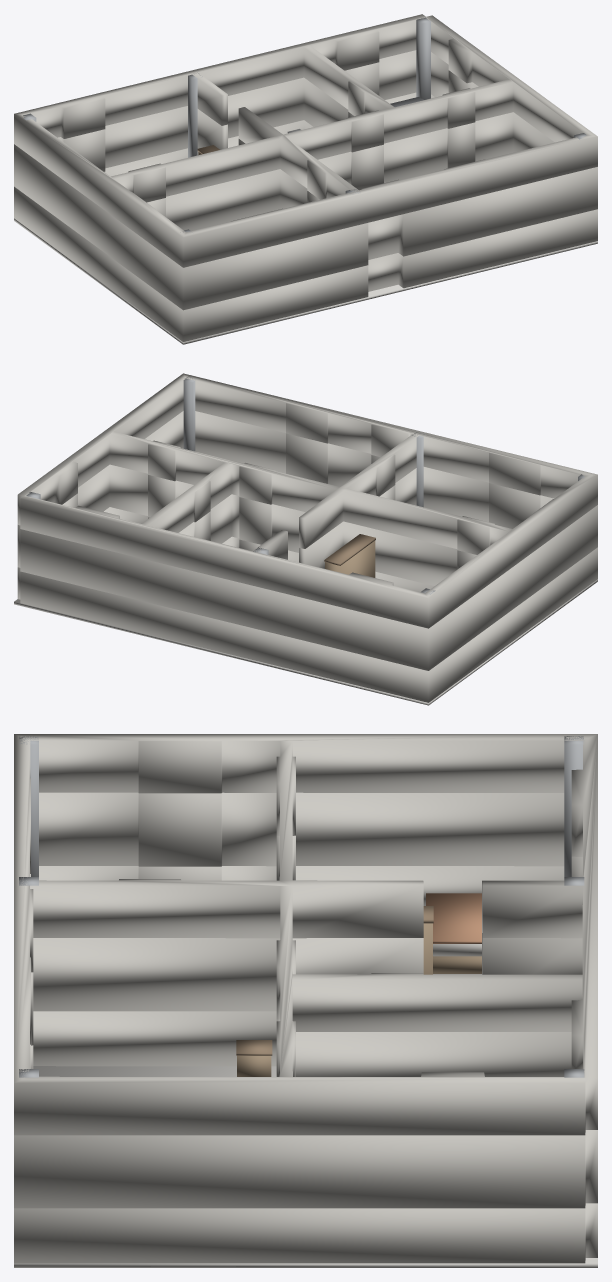
File: sample.glb
3 renders of one model, top to bottom at view 1: azimuth 30°, elevation 25°; view 2: azimuth 150°, elevation 25°; view 3: azimuth 270°, elevation 25°, orthographic. The views are drawn at different scales.
Visible parts, largest first — view 1: wall_p0_2_0, wall_p0_1_0, wall_p0_0_0, floor, column_3, column_5; view 2: wall_p0_2_0, wall_p0_1_0, wall_p0_0_0, floor, column_1, furn_cupboard_5_body, furn_cupboard_5_top, column_4; view 3: wall_p0_2_0, wall_p0_1_0, wall_p0_0_0, floor, furn_bed_1_blanket, column_2, column_0, furn_bed_1_frame, furn_sidetable_13_body.
Part boxes in pixels (left/top/right/bottom): wall_p0_2_0: left=14, top=14, right=597, bottom=267; wall_p0_1_0: left=14, top=50, right=597, bottom=310; wall_p0_0_0: left=14, top=92, right=597, bottom=341; floor: left=14, top=218, right=597, bottom=344; column_3: left=416, top=17, right=431, bottom=99; column_5: left=188, top=73, right=202, bottom=157; wall_p0_2_0: left=17, top=373, right=597, bottom=628; wall_p0_1_0: left=17, top=411, right=597, bottom=670; wall_p0_0_0: left=17, top=507, right=597, bottom=702; floor: left=14, top=579, right=597, bottom=705; column_1: left=183, top=376, right=197, bottom=451; furn_cupboard_5_body: left=325, top=541, right=375, bottom=577; furn_cupboard_5_top: left=324, top=534, right=375, bottom=565; column_4: left=412, top=432, right=425, bottom=507; wall_p0_2_0: left=14, top=734, right=597, bottom=1135; wall_p0_1_0: left=14, top=792, right=597, bottom=1208; wall_p0_0_0: left=14, top=866, right=597, bottom=1263; floor: left=14, top=974, right=597, bottom=1267; furn_bed_1_blanket: left=426, top=893, right=481, bottom=943; column_2: left=564, top=736, right=583, bottom=876; column_0: left=19, top=736, right=38, bottom=876; furn_bed_1_frame: left=433, top=956, right=481, bottom=973; furn_sidetable_13_body: left=237, top=1055, right=271, bottom=1076.
Bounding box in the file's own units: 12.47 × 3.08 × 8.81.
